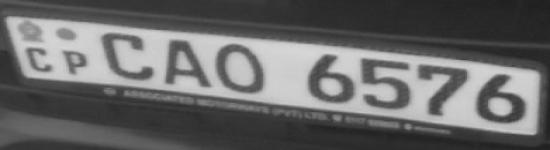5: (356, 55, 413, 110)
6: (471, 68, 527, 126), (302, 50, 357, 106)
7: (414, 60, 470, 118)
A: (155, 34, 215, 91)
C: (97, 28, 156, 83), (22, 44, 57, 76)
O: (214, 39, 268, 98)
P: (60, 46, 90, 78)
